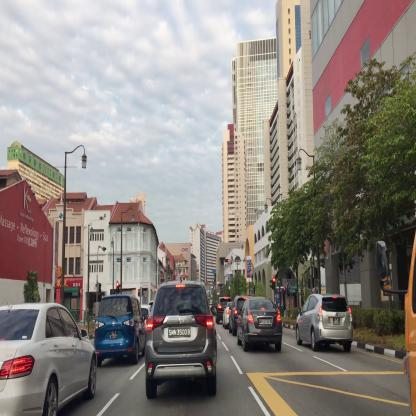red_traffic_light: (116, 282, 119, 292), (224, 258, 230, 262), (273, 277, 275, 288)
